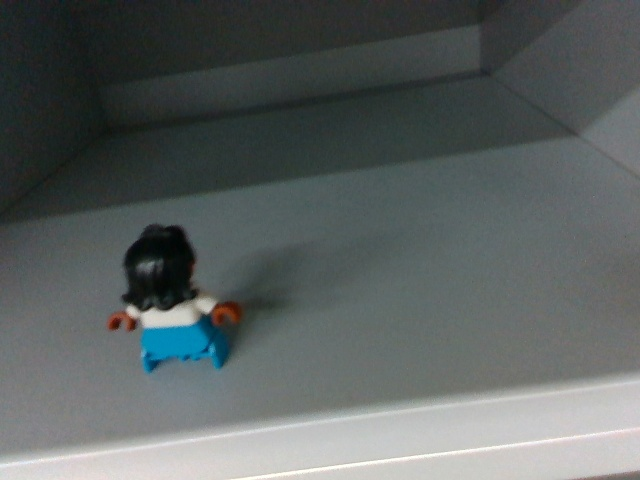people: (105, 221, 241, 375)
